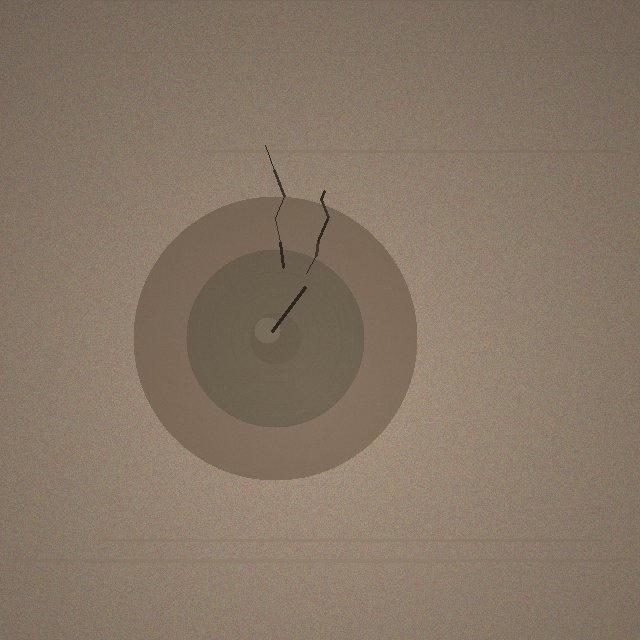crack: (133, 196, 417, 480)
